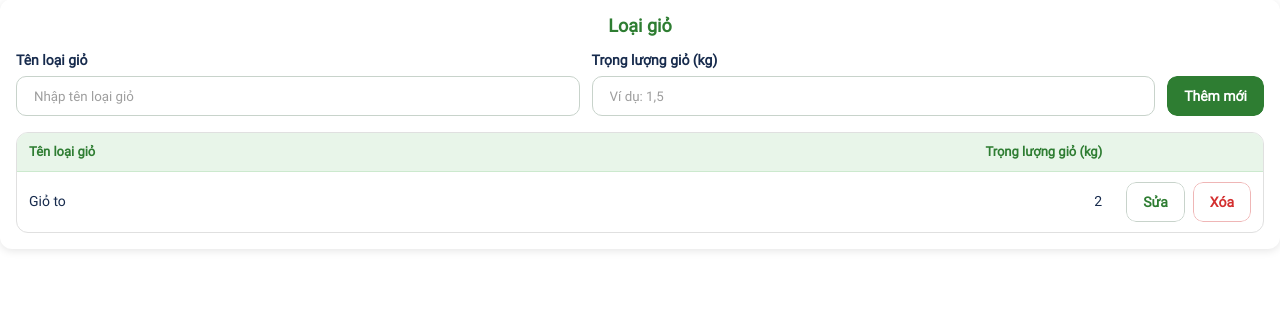
Test: trọng lượng abc không hợp lệ: không gọi API
Type "Giỏ vừa" into the field with id "basketType-new-basketName".
click(298, 96); type("Giỏ vừa")  # box [18,78,579,114]
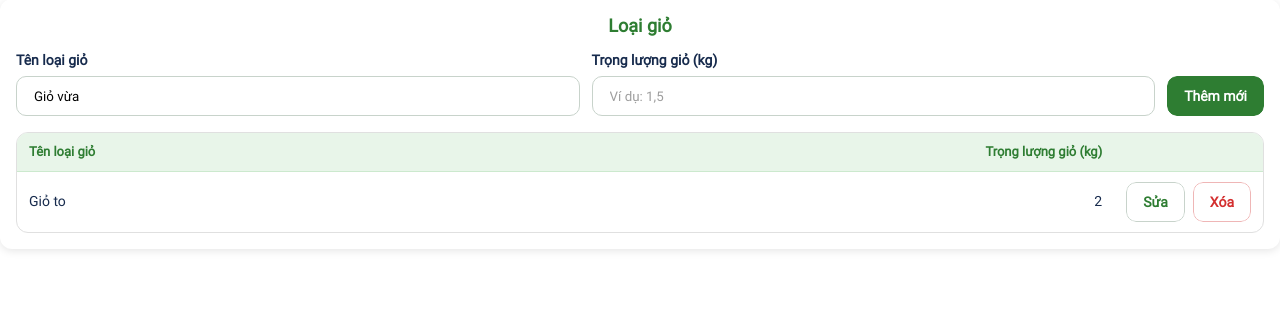
Type "abc" into the field with id "basketType-new-basketWeight".
click(874, 96); type("abc")  # box [594,78,1154,114]
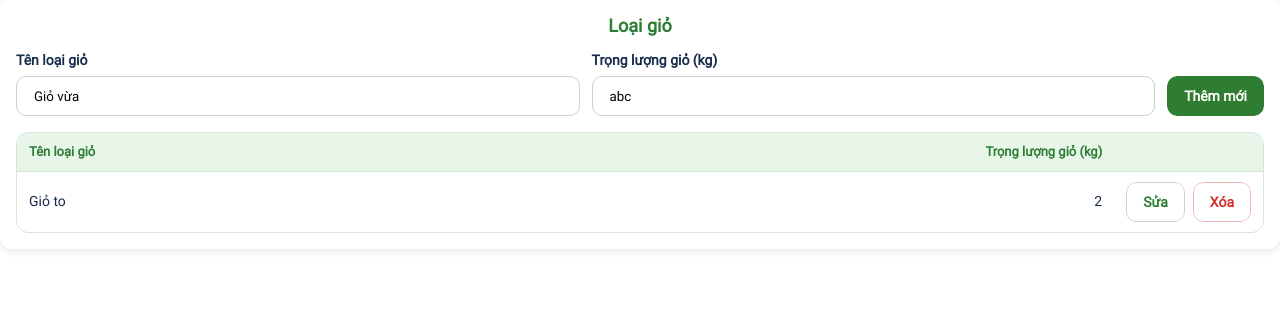
Click the button "Thêm mới".
click(1216, 96)  # box [1167,76,1264,116]
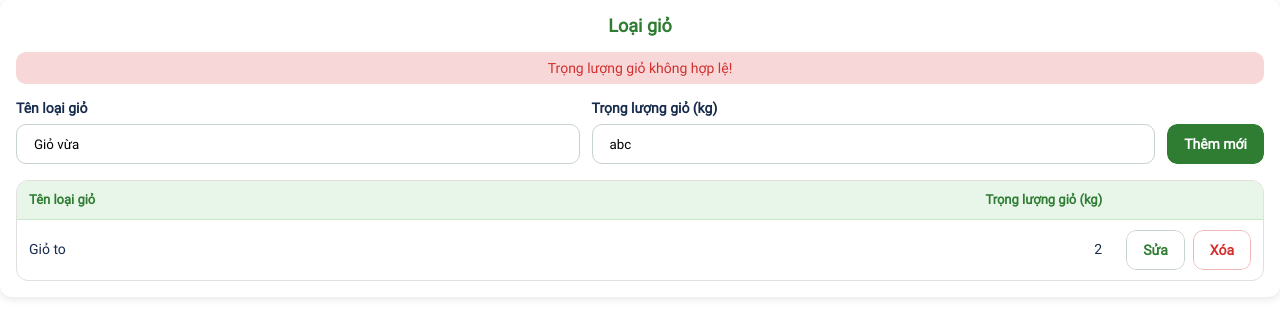
Expected: the text with class "error-message" reads "Trọng lượng giỏ không hợp lệ!", [548,60,732,76]
